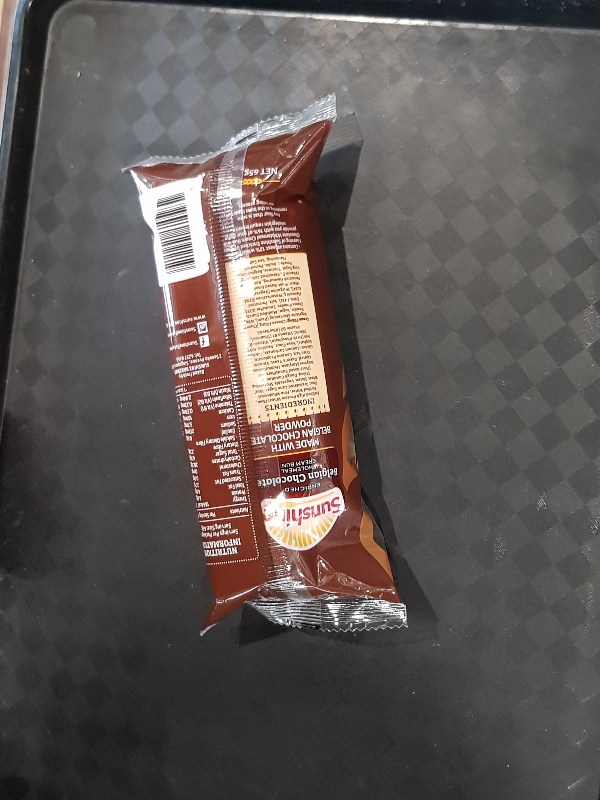Sunshine Belgium Chocolate Wholemeal Cream Bun: (122, 92, 408, 638)
